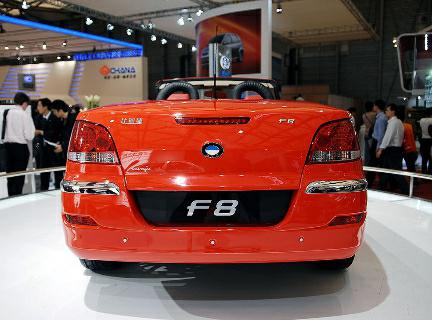比亚迪-S8: (56, 74, 380, 282)
